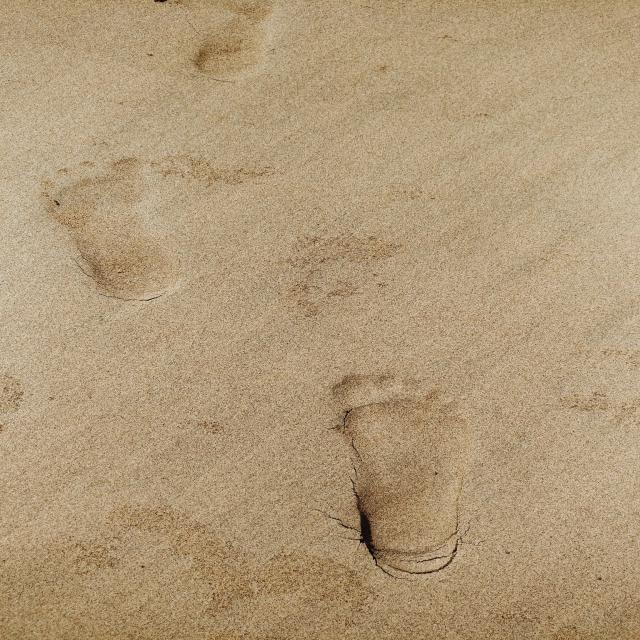human_foot_print: (40, 123, 532, 611)
